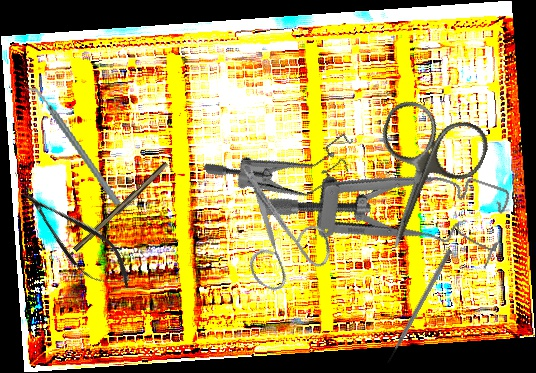Chopper: (25, 73, 122, 219)
Hook Surgical: (384, 248, 453, 364)
Iris Scissors: (344, 94, 495, 267), (197, 159, 351, 306)
Micro Scissor: (7, 174, 144, 304)
Scalpel Handle: (72, 160, 171, 255)
Speculum: (257, 116, 516, 291), (201, 89, 368, 238)
